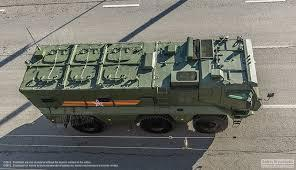truck: (20, 29, 269, 146)
